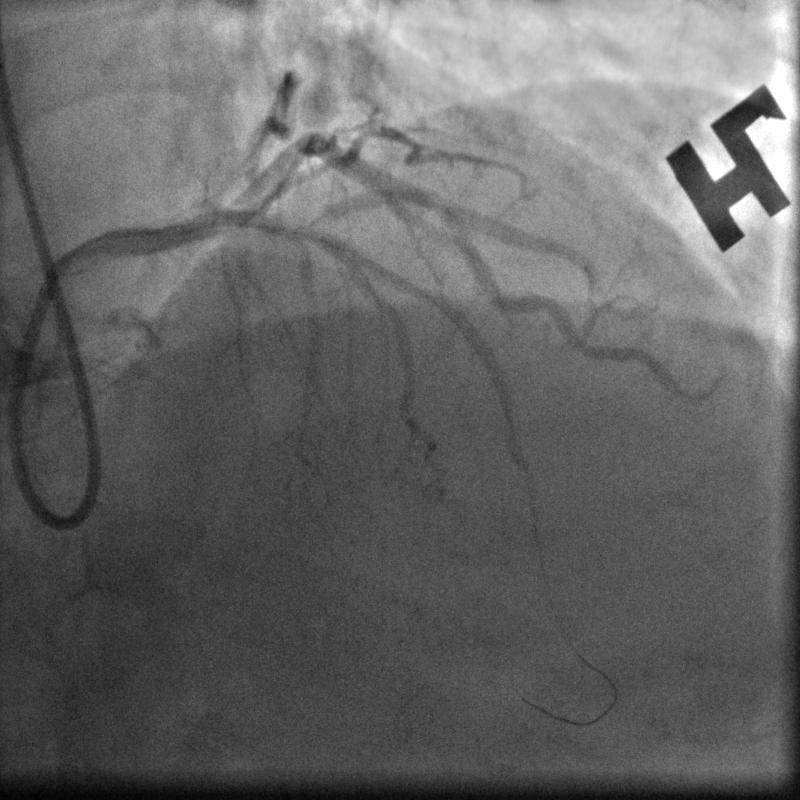Stenosis: (425, 182, 459, 229)
